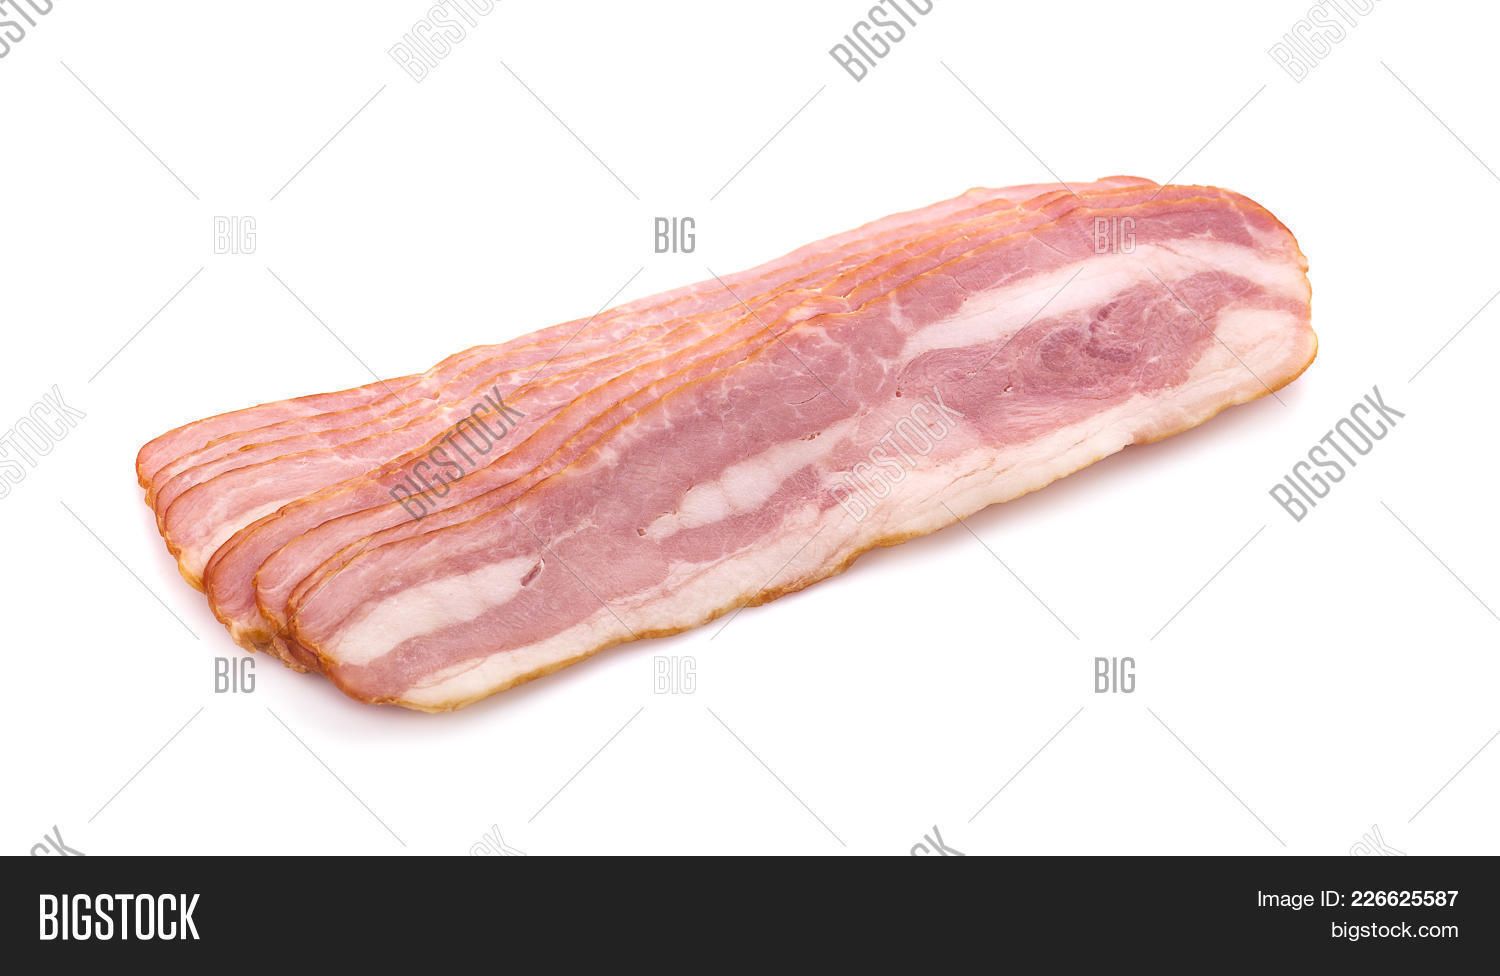bacon: (126, 225, 1391, 616)
